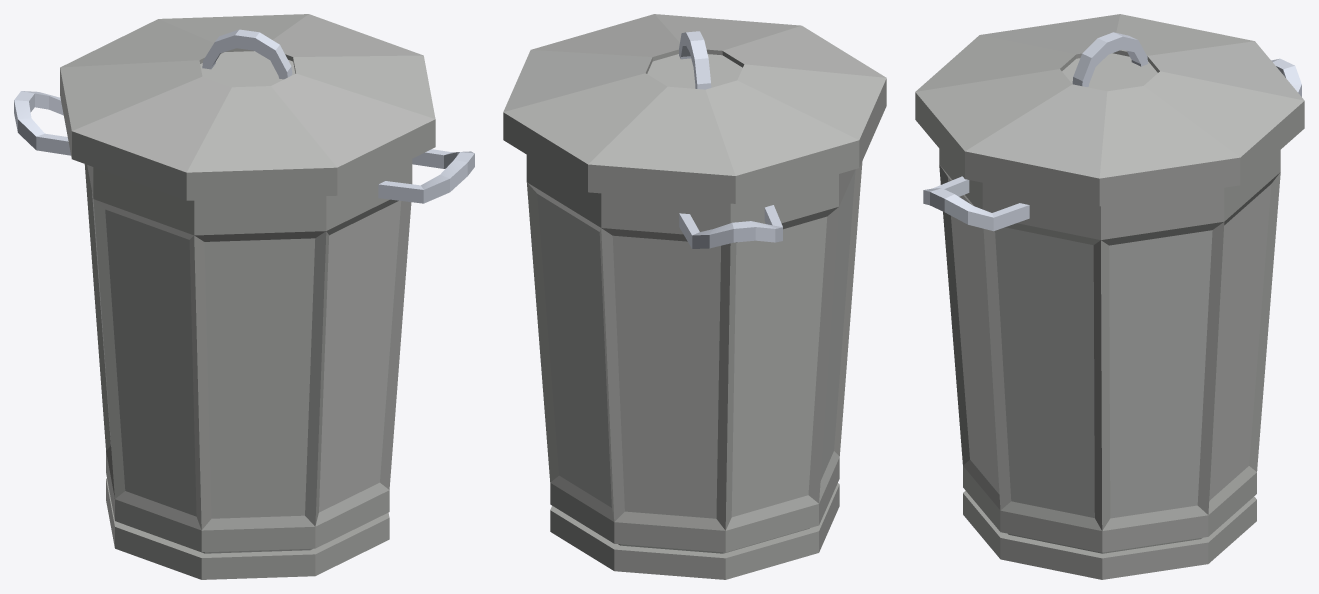
File: Trash_Can.glb
3 views of the same model, side by side, from view 1: azimuth 30°, elevation 25°; view 2: azimuth 150°, elevation 25°; view 3: azimuth 270°, elevation 25° (orthographic).
Visible parts, largest first — view 1: TrashCan; view 2: TrashCan; view 3: TrashCan.
Boxes of the visible parts, x1,y1,x2,y2 form: TrashCan: (14,14,474,579); TrashCan: (503,14,886,579); TrashCan: (915,14,1304,579).
Size of what is drawn, in the model's own units: 0.8335 by 1.13 by 0.8335.
1 material, 1 textured.
